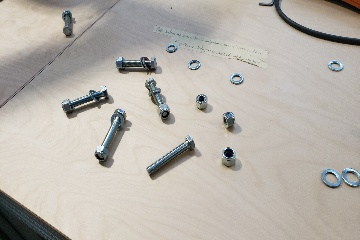Bolt: (142, 131, 199, 179)
FalseAssembly: (90, 105, 130, 163), (142, 77, 173, 123), (61, 9, 75, 39)
FinishedAssembly: (60, 84, 110, 116), (113, 53, 161, 76)
Nut: (217, 145, 238, 166), (192, 92, 210, 110), (219, 109, 236, 128)
Washer: (319, 167, 342, 191), (341, 168, 360, 188), (327, 58, 344, 73), (163, 42, 180, 56), (228, 73, 245, 86), (187, 58, 201, 71)
